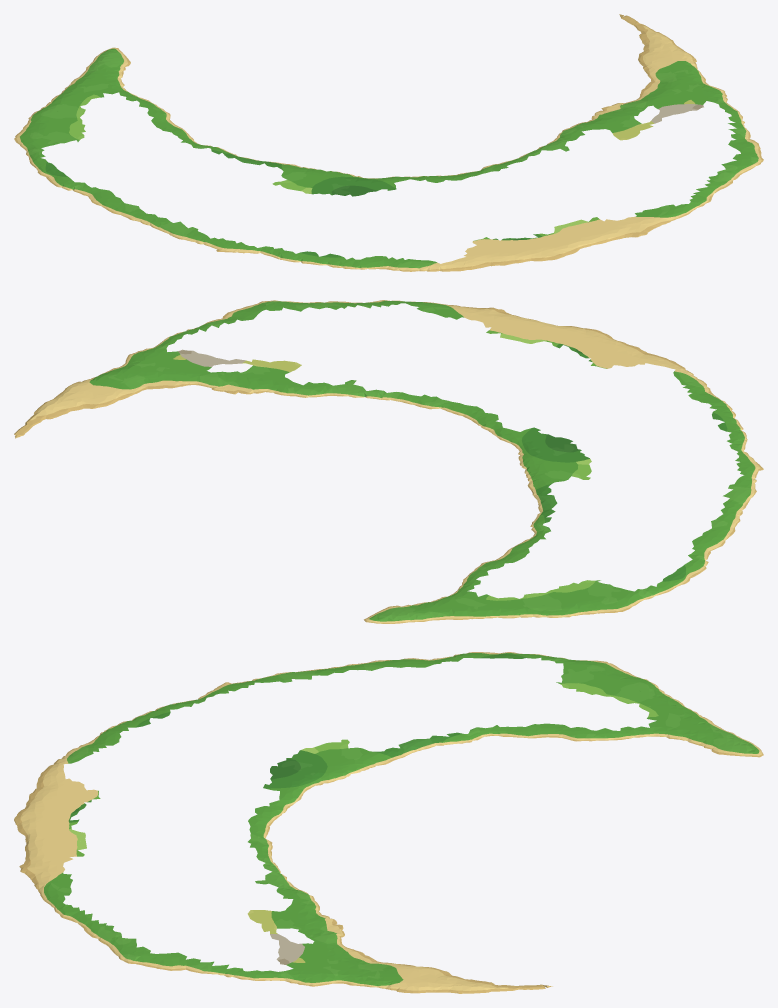
The model's file is Isl-crescent1-Ground.fbx.
The picture shows the model from 3 angles, top to bottom: view 1: azimuth 30°, elevation 25°; view 2: azimuth 150°, elevation 25°; view 3: azimuth 270°, elevation 25°; orthographic projection. The views are drawn at different scales.
Visible parts, largest first — view 1: Isl-crescent1-Ground-c21, Isl-crescent1-Ground-c11, Isl-crescent1-Ground-c10, Isl-crescent1-Ground-c12, Isl-crescent1-Ground-c20, Isl-crescent1-Ground-c01, Isl-crescent1-Ground-c02; view 2: Isl-crescent1-Ground-c21, Isl-crescent1-Ground-c11, Isl-crescent1-Ground-c12, Isl-crescent1-Ground-c10, Isl-crescent1-Ground-c02, Isl-crescent1-Ground-c20, Isl-crescent1-Ground-c01; view 3: Isl-crescent1-Ground-c21, Isl-crescent1-Ground-c11, Isl-crescent1-Ground-c12, Isl-crescent1-Ground-c10, Isl-crescent1-Ground-c20, Isl-crescent1-Ground-c02, Isl-crescent1-Ground-c01.
Part boxes in pixels (x1,y1,x2,y2): Isl-crescent1-Ground-c21: (489,31,763,173); Isl-crescent1-Ground-c11: (187,143,498,267); Isl-crescent1-Ground-c10: (342,223,595,271); Isl-crescent1-Ground-c12: (36,47,196,142); Isl-crescent1-Ground-c20: (570,165,754,244); Isl-crescent1-Ground-c01: (48,173,229,252); Isl-crescent1-Ground-c02: (14,111,79,179); Isl-crescent1-Ground-c21: (34,300,435,418); Isl-crescent1-Ground-c11: (425,396,757,536); Isl-crescent1-Ground-c12: (364,535,595,623); Isl-crescent1-Ground-c10: (514,322,732,410); Isl-crescent1-Ground-c02: (550,569,694,617); Isl-crescent1-Ground-c20: (288,300,540,340); Isl-crescent1-Ground-c01: (677,464,763,576); Isl-crescent1-Ground-c21: (114,842,491,993); Isl-crescent1-Ground-c11: (113,683,492,844); Isl-crescent1-Ground-c12: (490,682,763,757); Isl-crescent1-Ground-c10: (14,725,122,844); Isl-crescent1-Ground-c20: (19,841,121,955); Isl-crescent1-Ground-c02: (490,652,656,685); Isl-crescent1-Ground-c01: (217,652,492,687).
Size of the model in its own units: 114 by 0.49 by 105.
